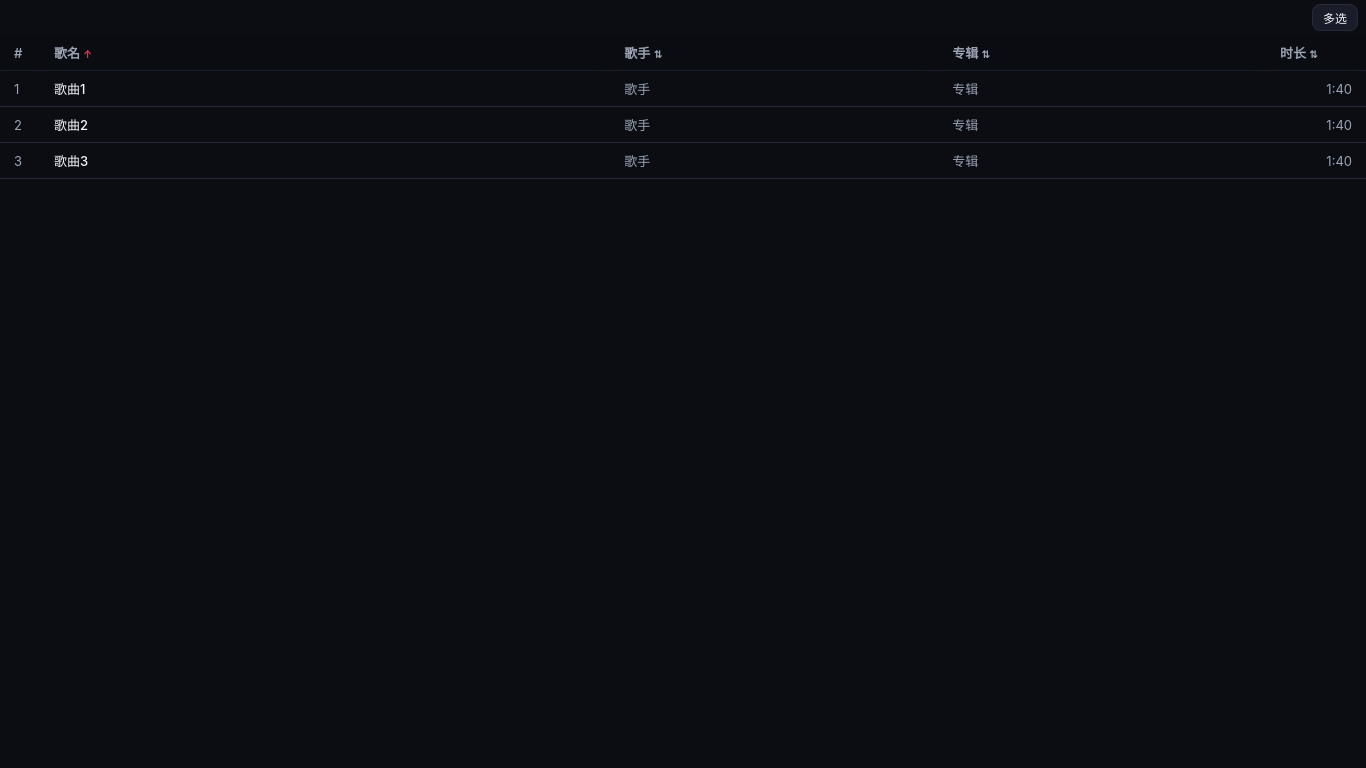
Test: MusicList 多选 › 多选后「收藏」打开收藏选择器
Click the button "多选".
click(1335, 18)  # box [1312,4,1358,31]
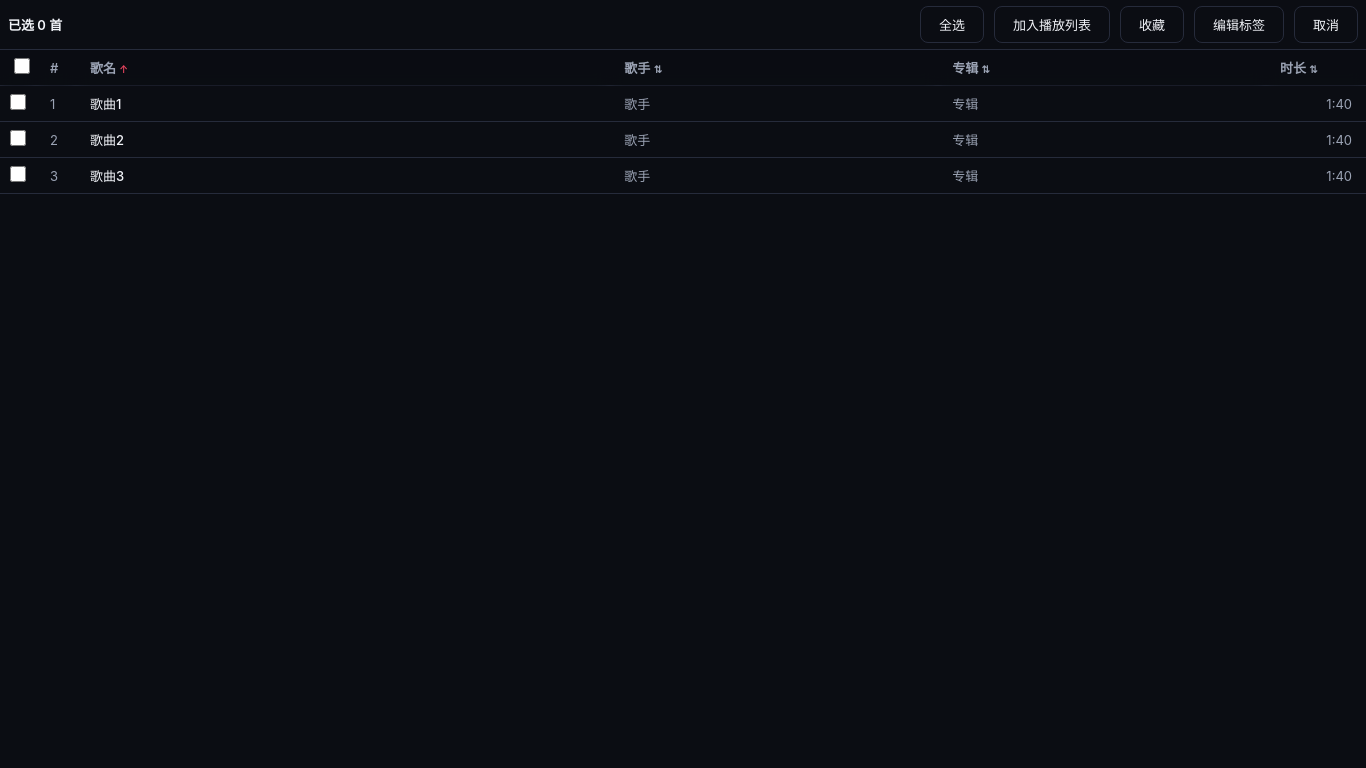
Click the text "歌曲2".
click(683, 140)  # box [0,122,1365,158]
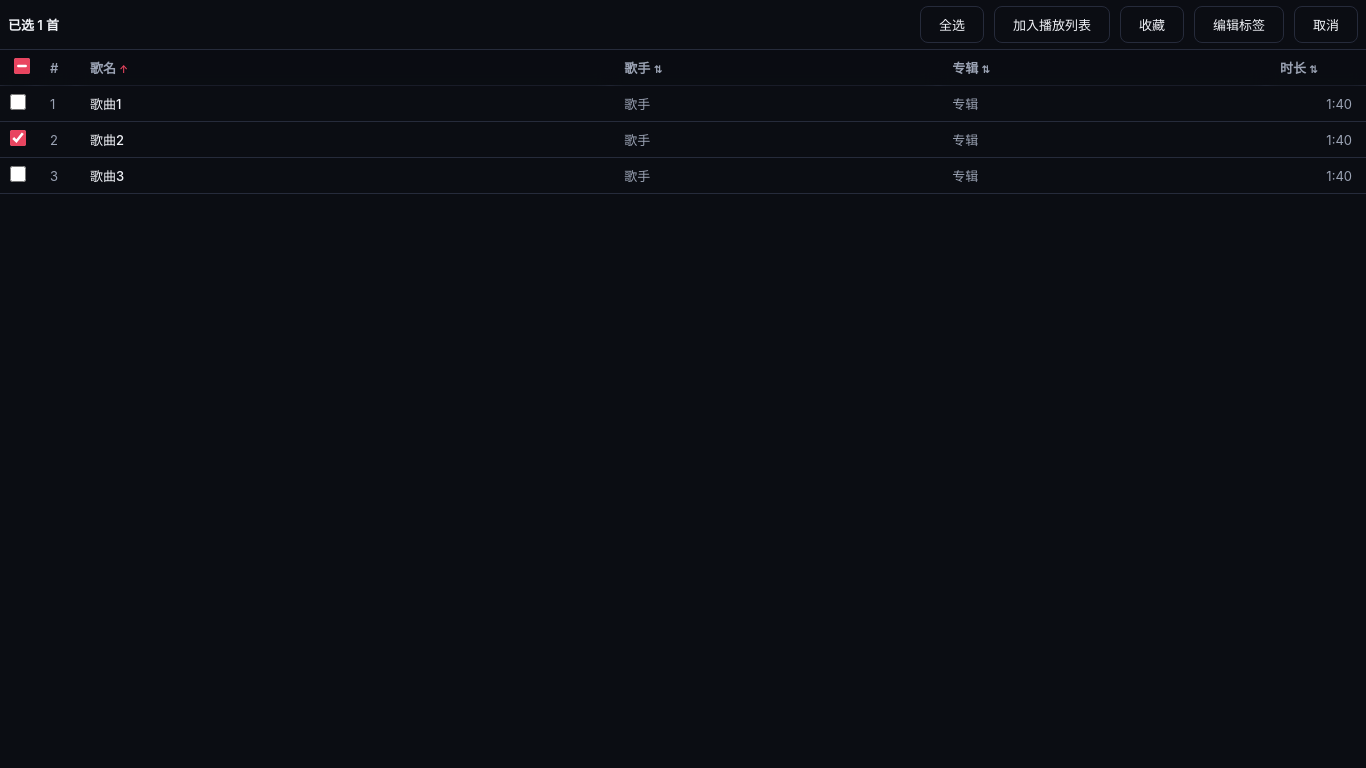
Click the button "收藏".
click(1152, 24)  # box [1120,6,1184,43]
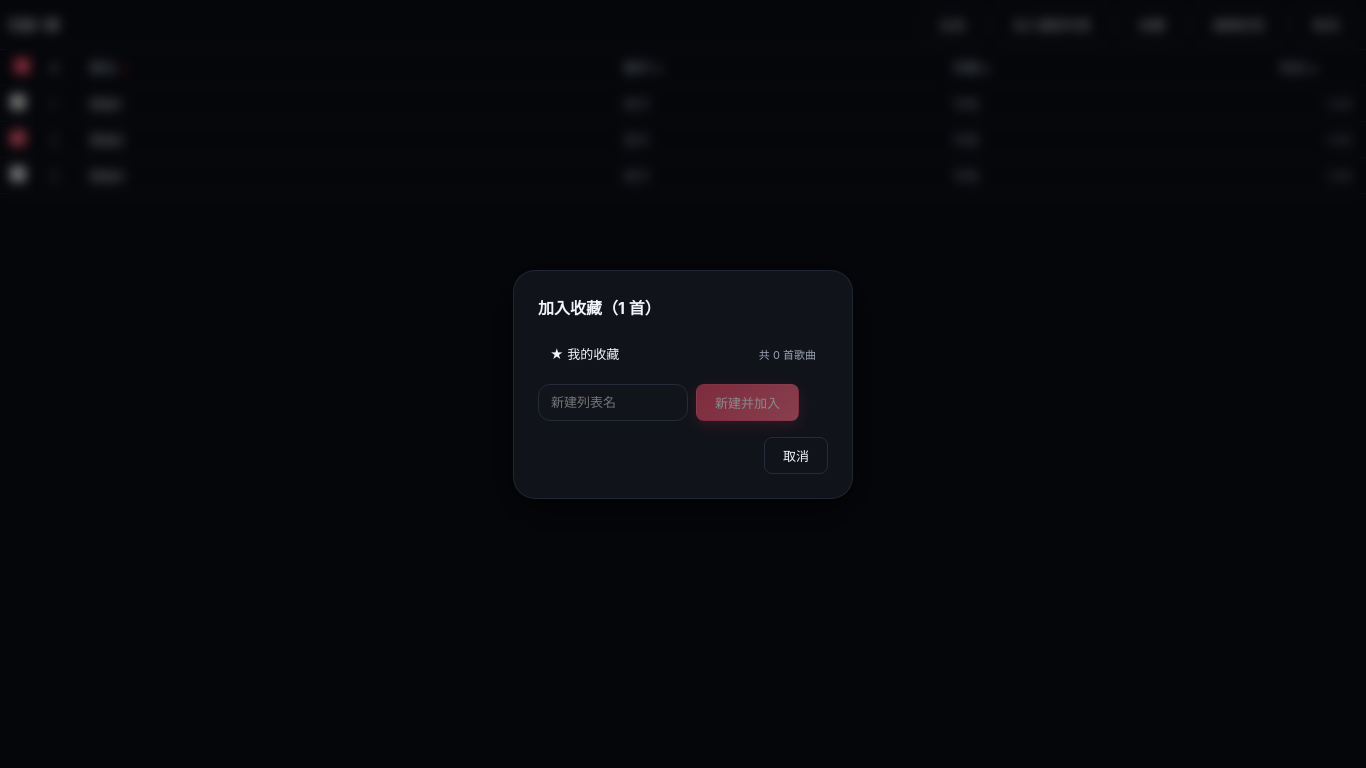
Now the text "★ 我的收藏" is shown, box [550,344,619,362]
